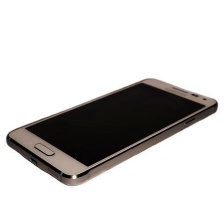phone: (3, 74, 219, 188)
